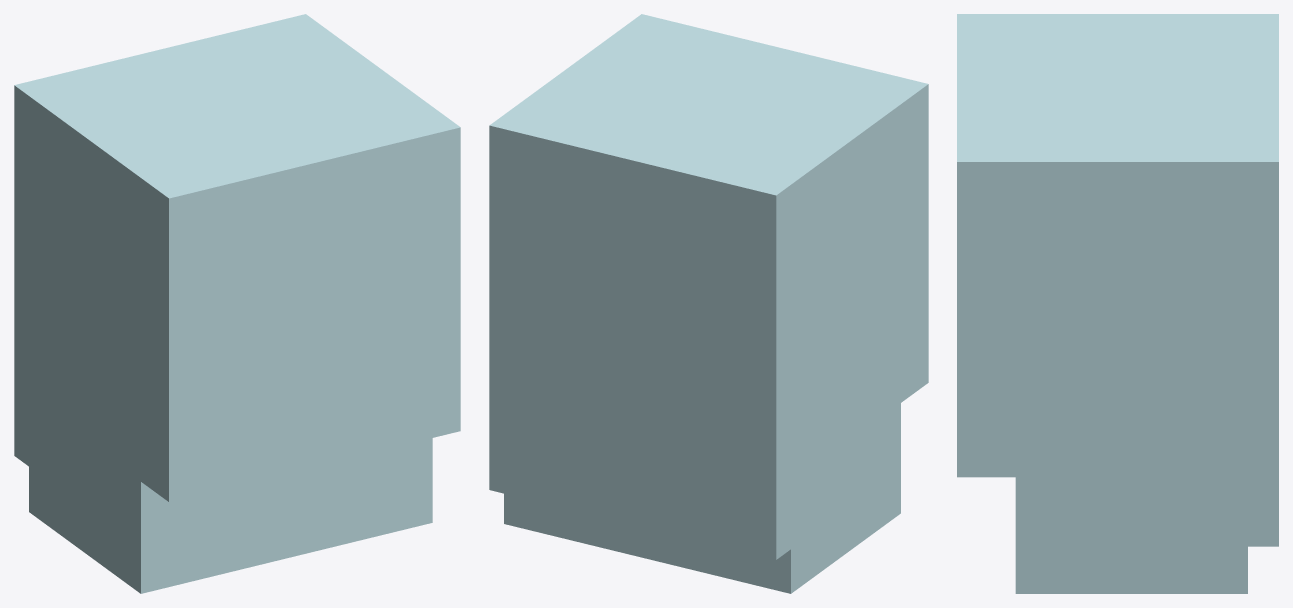
The model's file is dishwasher_600.glb.
The picture shows the model from 3 angles, left to right: view 1: azimuth 30°, elevation 25°; view 2: azimuth 150°, elevation 25°; view 3: azimuth 270°, elevation 25°; orthographic projection. The views are drawn at different scales.
Visible parts, largest first — view 1: VIFS001; view 2: VIFS001; view 3: VIFS001.
Boxes of the visible parts, <box> form: VIFS001: <box>14,14,460,593</box>; VIFS001: <box>489,14,928,593</box>; VIFS001: <box>957,14,1278,593</box>.
Size of the model in its own units: 0.598 by 0.815 by 0.55.
